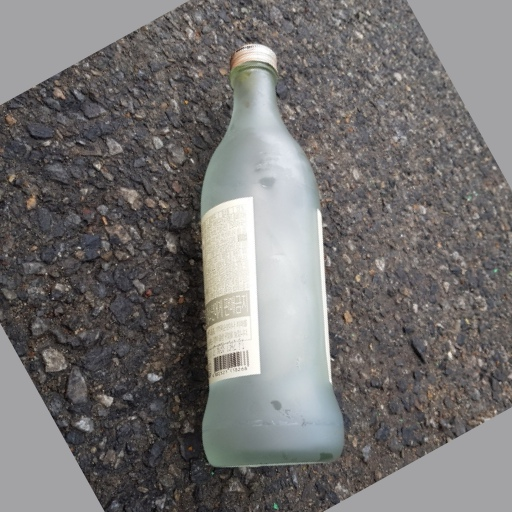Glass_0: (189, 40, 345, 474)
